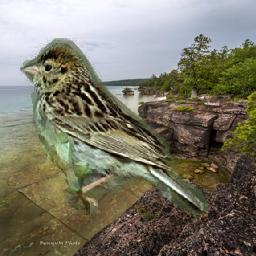Sparrow: (20, 39, 208, 216)
